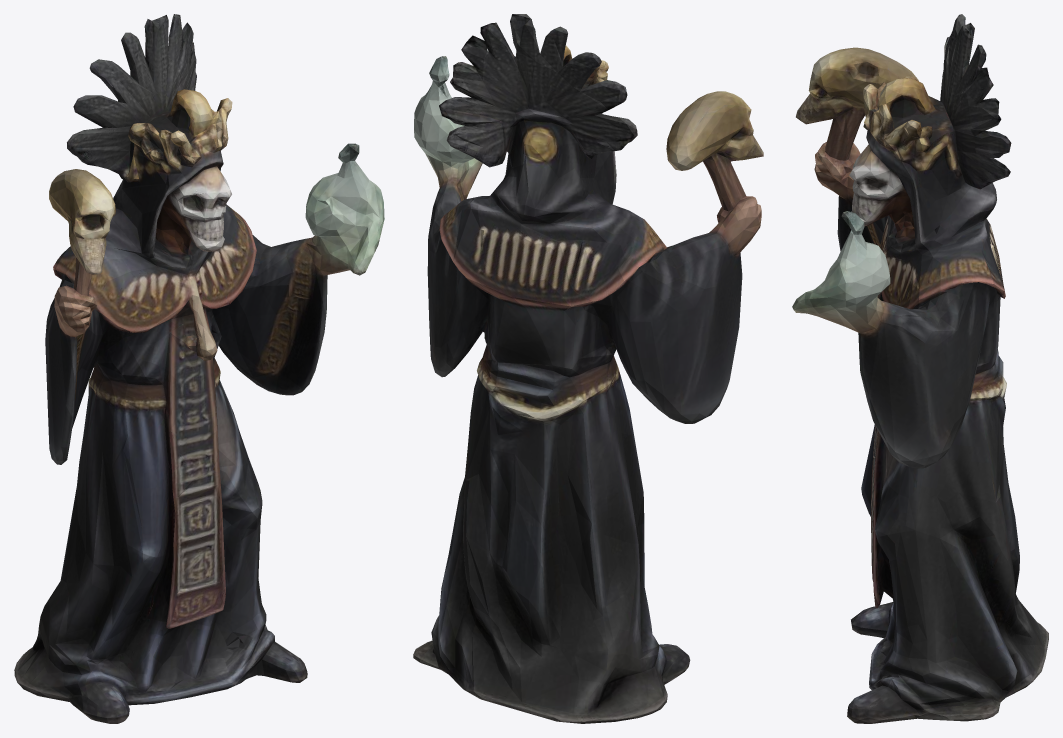
Rendered from boneRattlePriest.glb.
3 views of the same model, side by side, from view 1: azimuth 30°, elevation 25°; view 2: azimuth 150°, elevation 25°; view 3: azimuth 270°, elevation 25° (orthographic). The views are drawn at different scales.
Visible parts, largest first — view 1: world; view 2: world; view 3: world.
Part boxes in pixels (left/top/right/bottom): world: left=14, top=14, right=384, bottom=723; world: left=413, top=14, right=763, bottom=723; world: left=792, top=14, right=1048, bottom=723.
Bounding box in the file's own units: 0.5312 × 0.9987 × 0.3564.
Materials: 1 (1 with a texture image).
